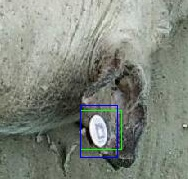text: (80, 110, 121, 149)
